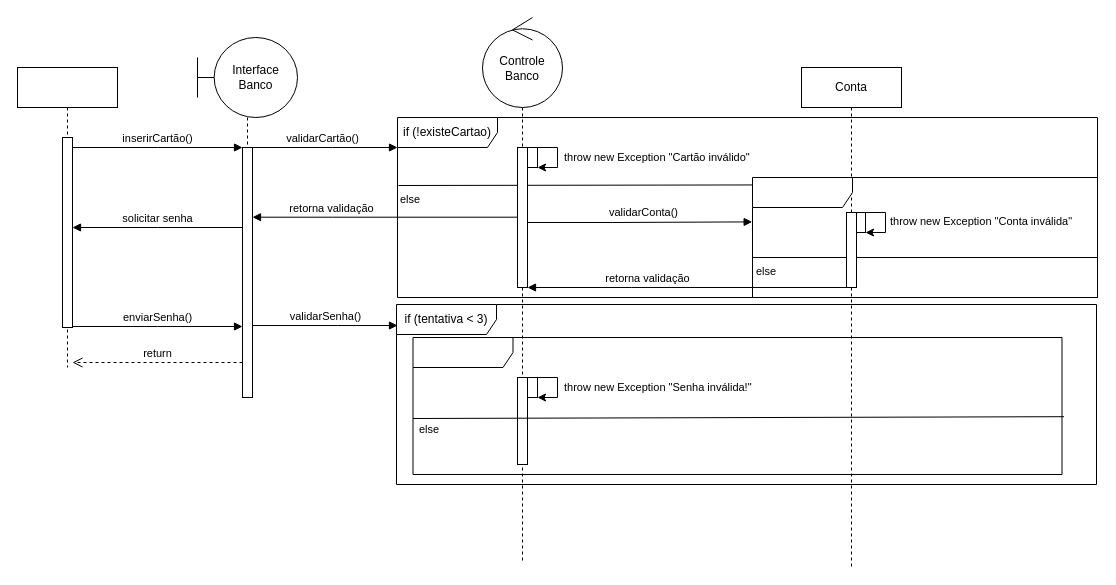
Image size: 1116x585. Some labels were removed from this diagram. Here are the shapes that lost their labels. From the top down, the box of each, then its label:
(16, 66, 118, 368): Usuário
(752, 176, 1098, 298): if (!existeConta)
(412, 336, 1062, 474): if (senhaErrada)
